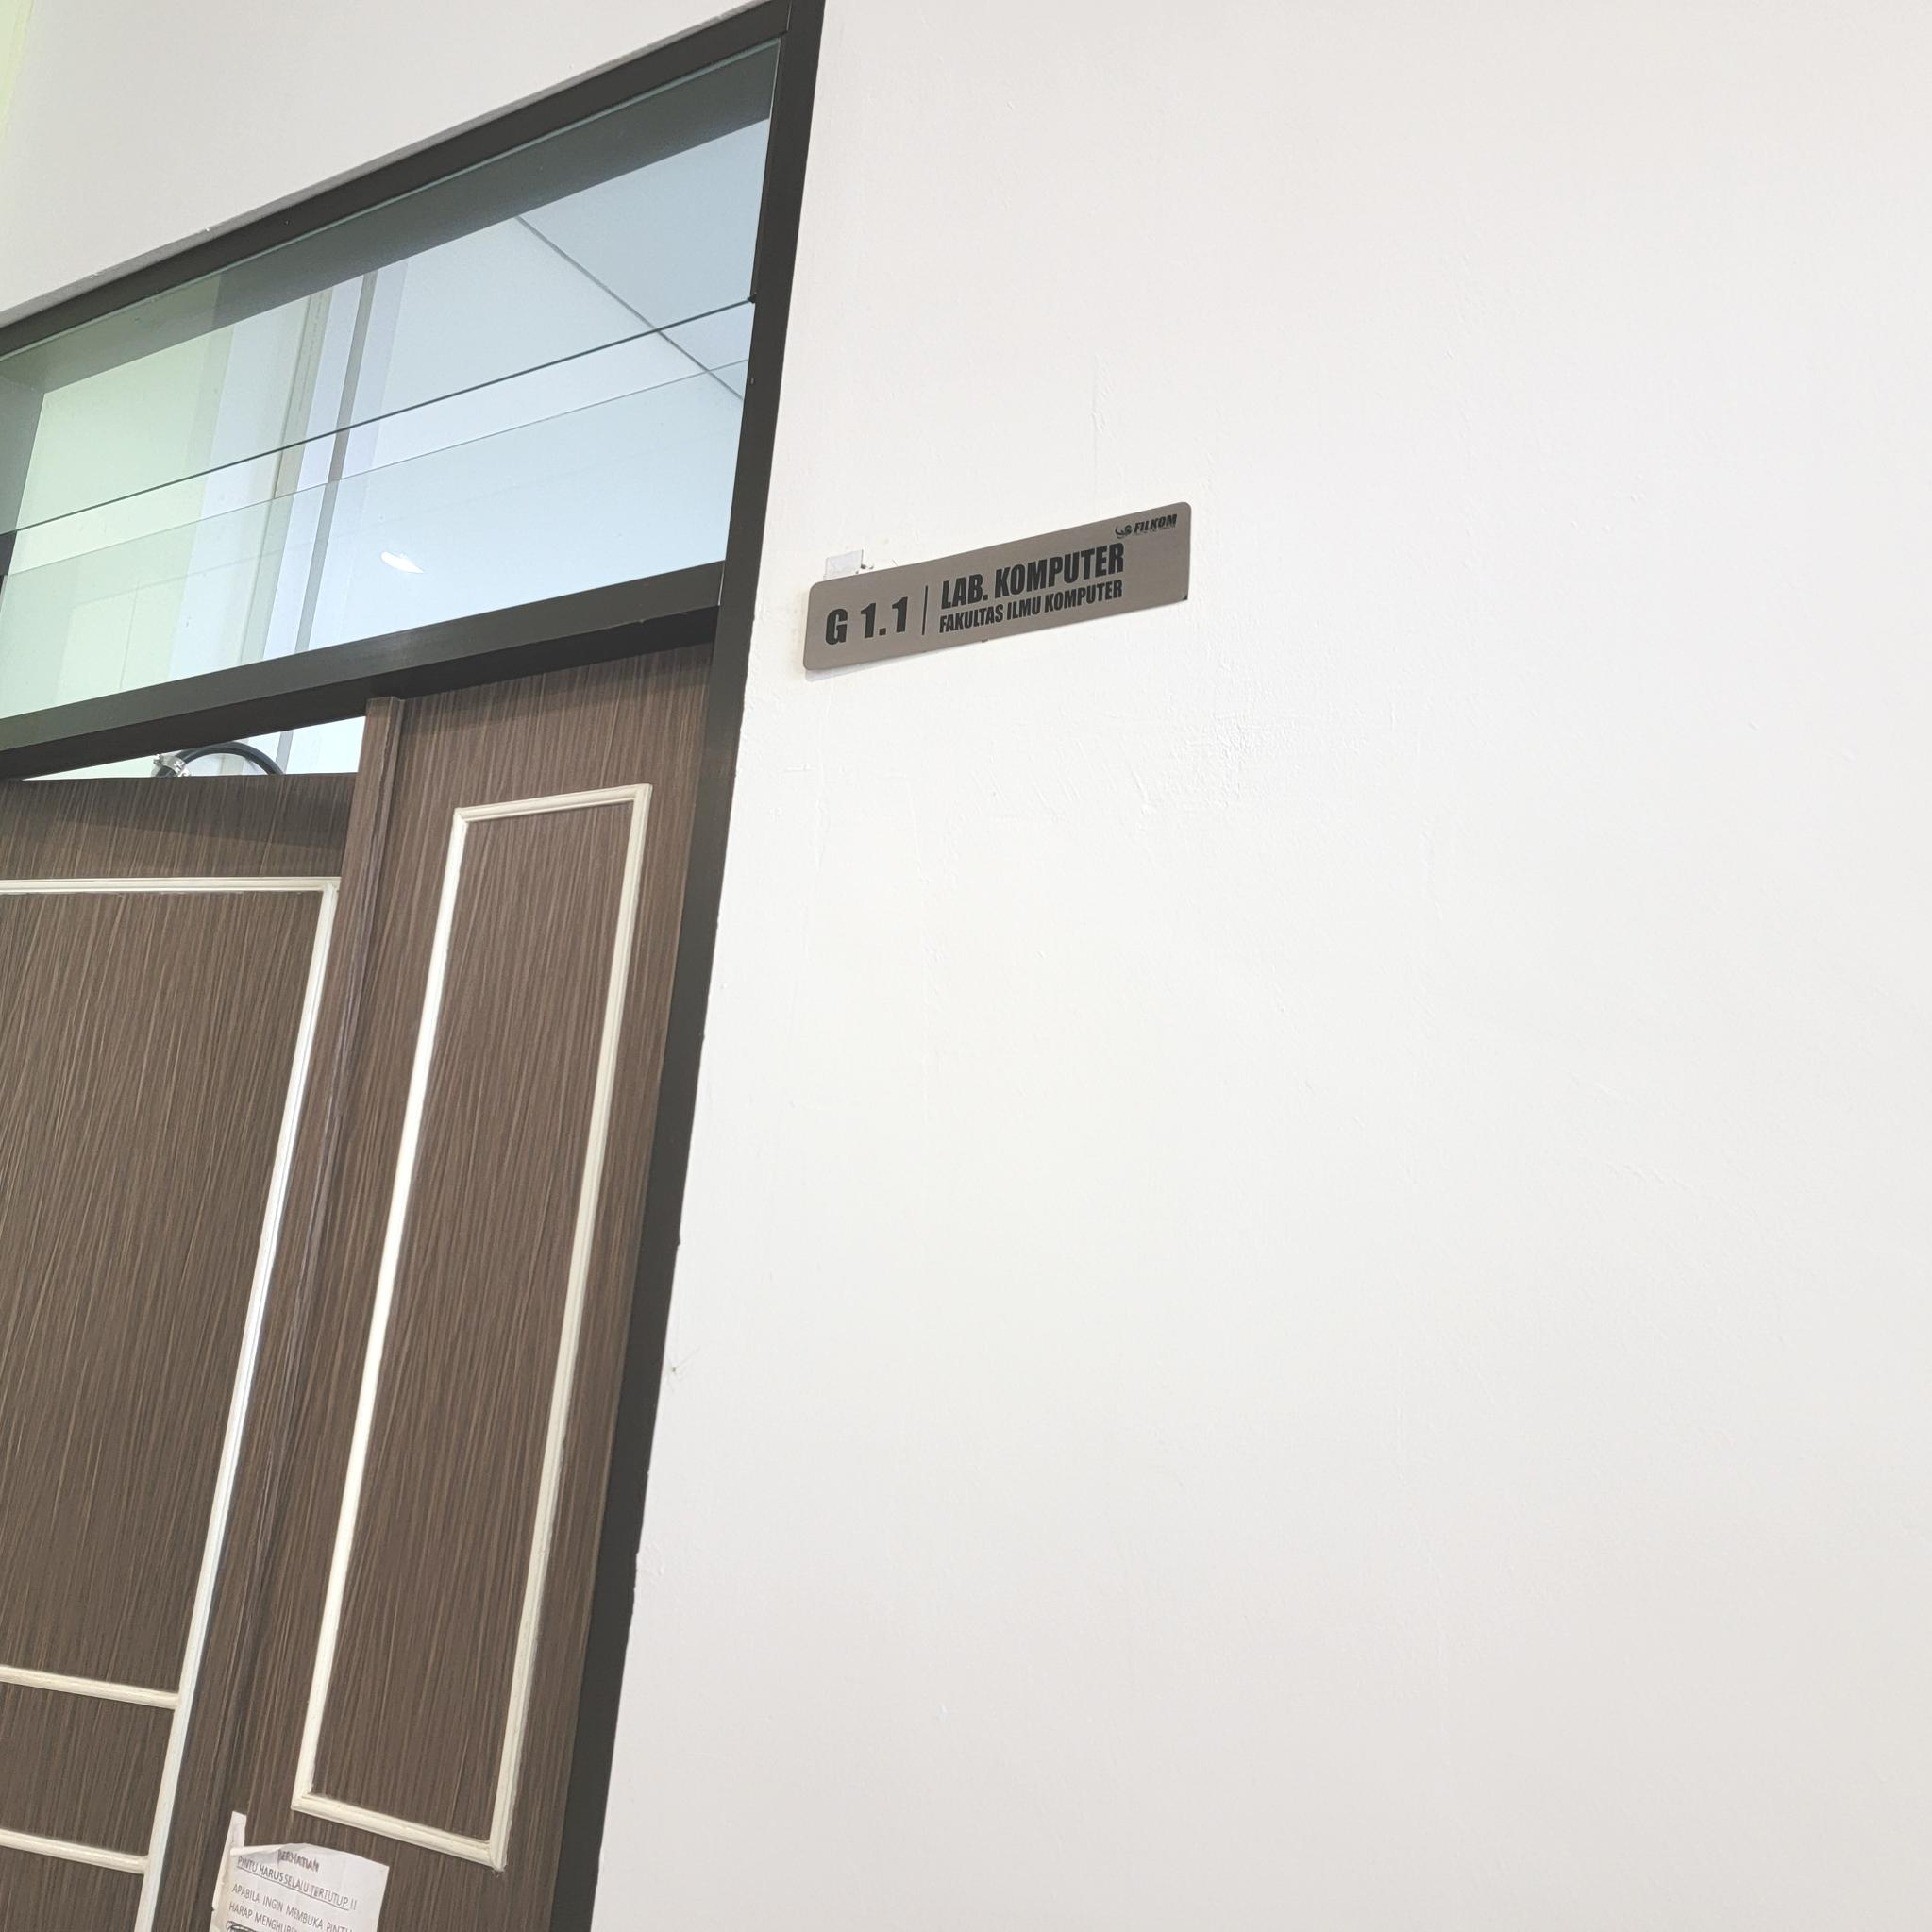plate: (803, 501, 1192, 674)
